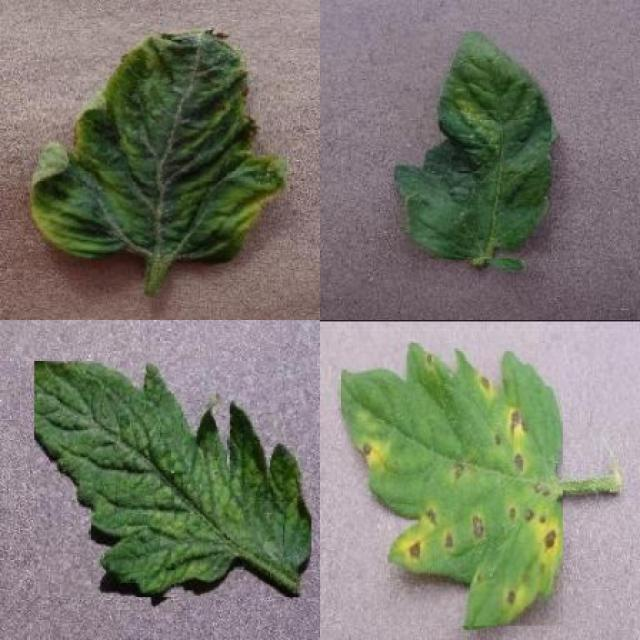Mosaic Virus: (35, 360, 311, 597)
Septoria: (340, 344, 563, 626)
Spider Mites: (395, 32, 552, 258)
Yellow Leaf Curl Virus: (31, 26, 288, 263)
